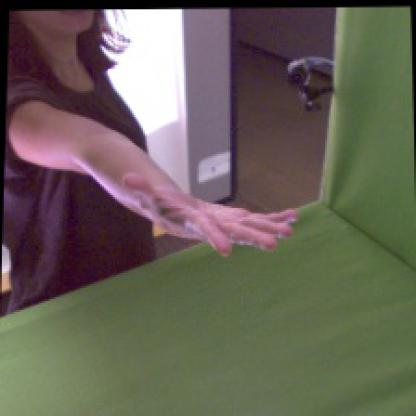Hand: (123, 171, 299, 255)
